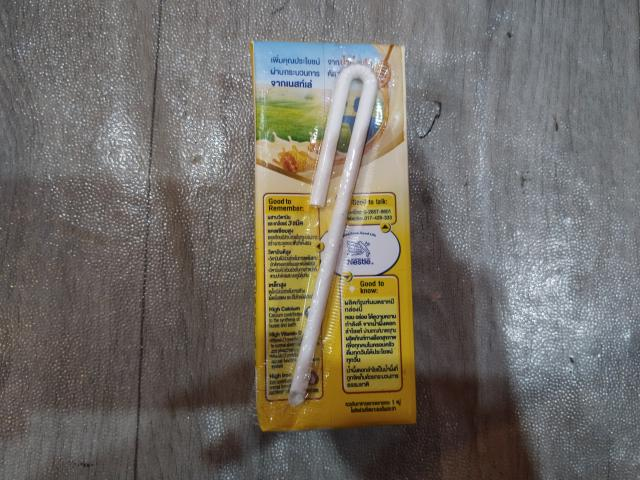drink_box: (250, 37, 424, 429)
